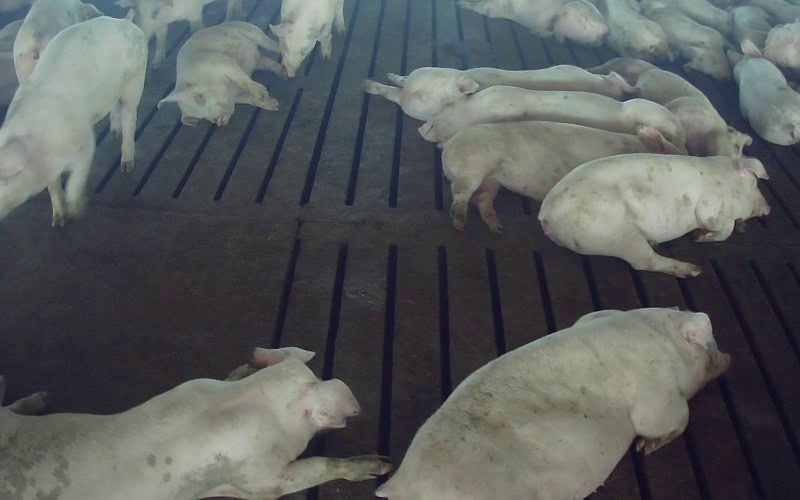pig: (376, 308, 729, 499), (0, 347, 390, 499), (0, 17, 146, 225), (539, 153, 769, 277), (442, 121, 682, 232), (419, 86, 684, 148), (590, 58, 751, 157), (361, 65, 632, 121), (159, 21, 285, 125), (728, 40, 799, 144)
